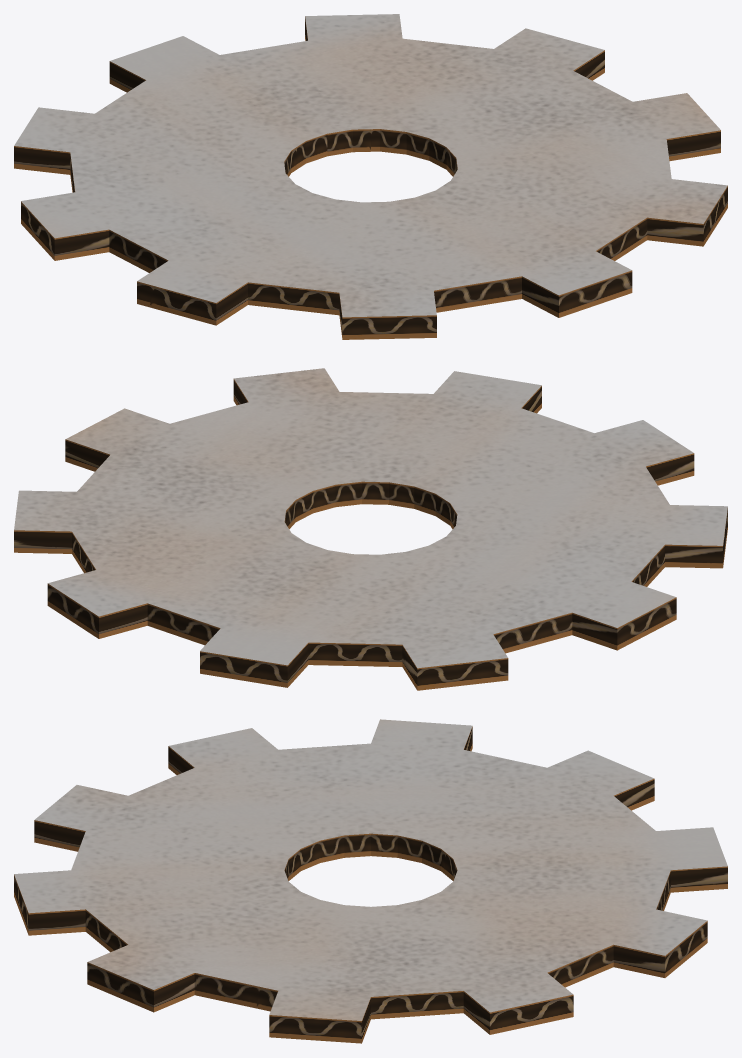
File: Gear.fbx
The picture shows the model from 3 angles, top to bottom: view 1: azimuth 30°, elevation 25°; view 2: azimuth 150°, elevation 25°; view 3: azimuth 270°, elevation 25°; orthographic projection.
Visible parts, largest first — view 1: pPipe1; view 2: pPipe1; view 3: pPipe1.
Part boxes in pixels (<box>): pPipe1: <box>14,14,727,339</box>; pPipe1: <box>14,368,727,690</box>; pPipe1: <box>14,719,727,1043</box>.
Size of the model in its own units: 8.37 by 0.2901 by 8.37.
